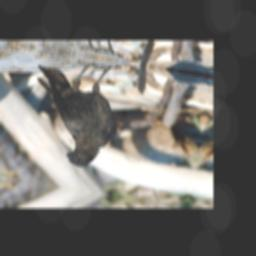Crow: (18, 52, 131, 173)
